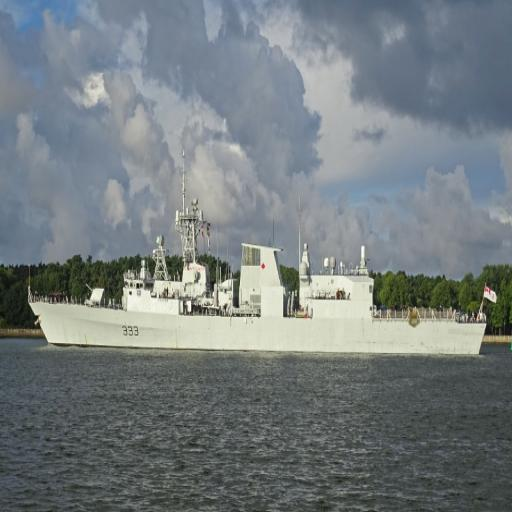Fragata: (25, 157, 488, 352)
